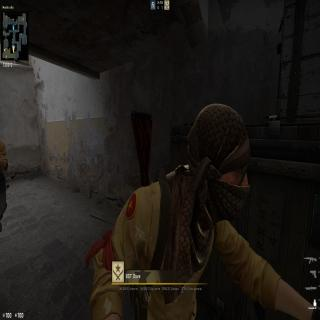T-Head: (182, 101, 253, 240)
